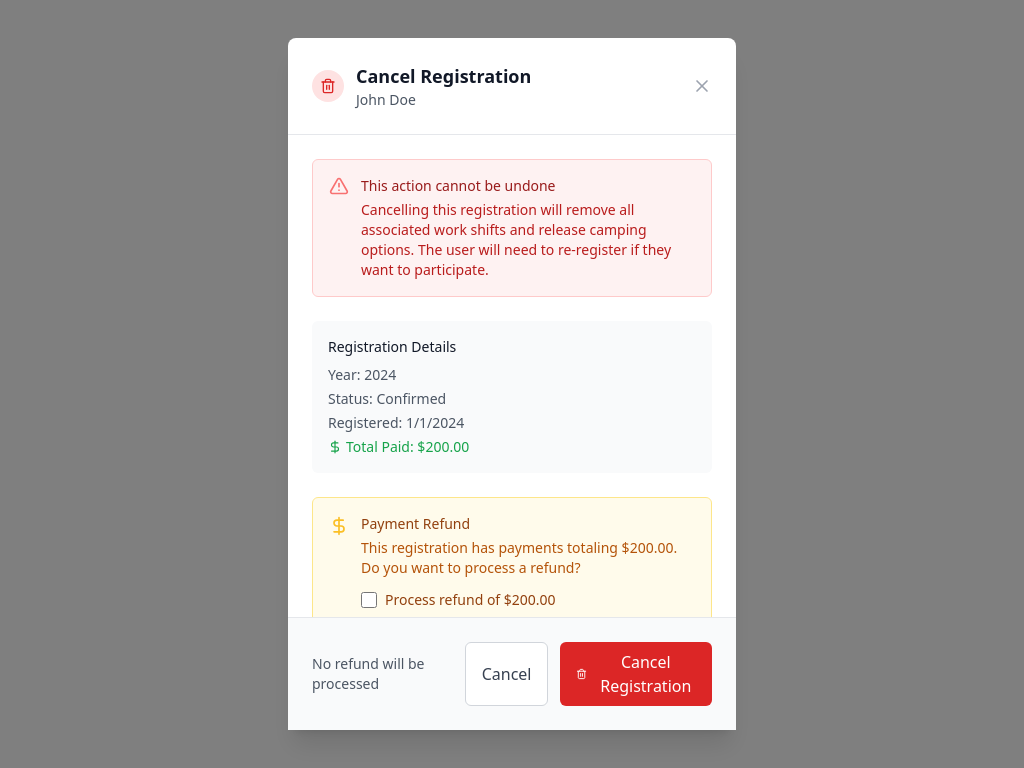
Test: RegistrationCancelForm › Form Submission › should clear validation errors when reason is fixed
# Submit without reason to trigger error
Click the button "Cancel Registration" at (636, 674), box [560,642,712,706]
(page scrolled)
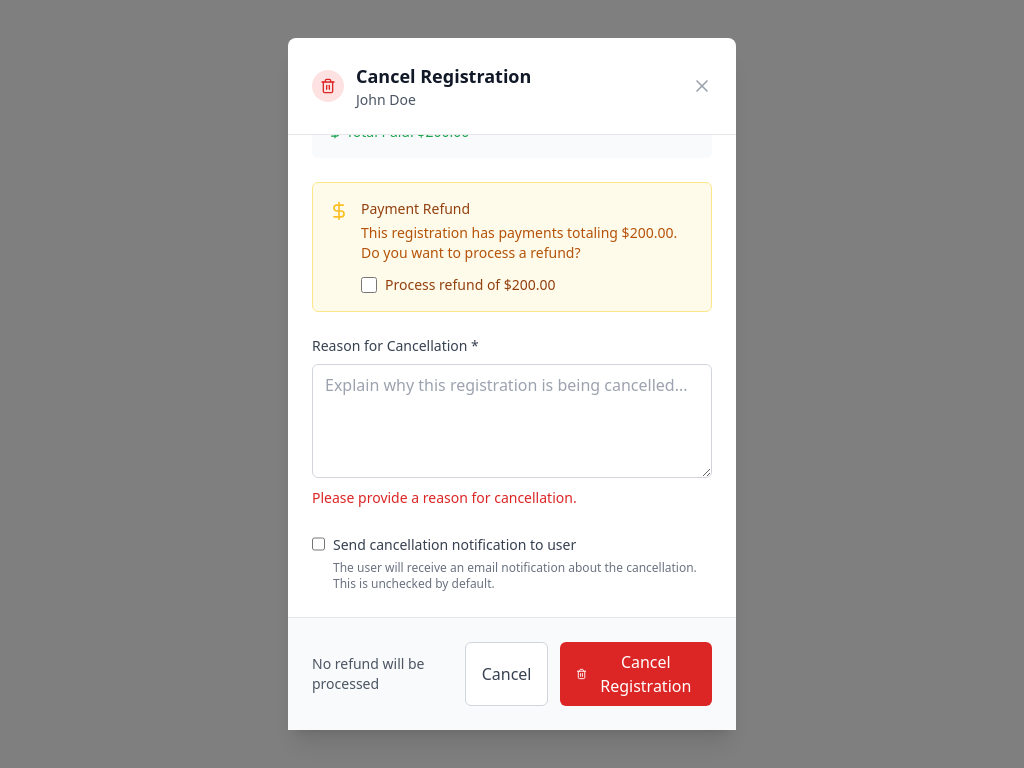
Expected: the text "Please provide a reason for cancellation." is shown, [312,488,577,507]
# Add valid reason
Type "Valid reason for cancellation" into the text box labelled "Reason for Cancellation *" at (512, 421), box [312,364,712,478]
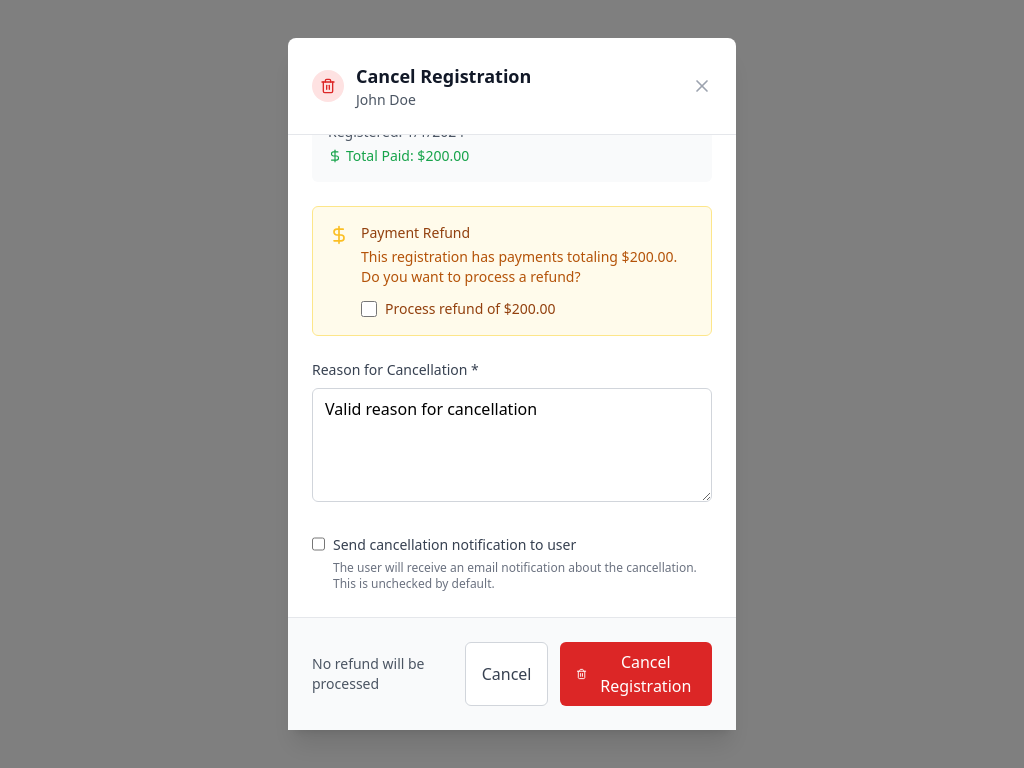
Expected: the text "Please provide a reason for cancellation." is gone
